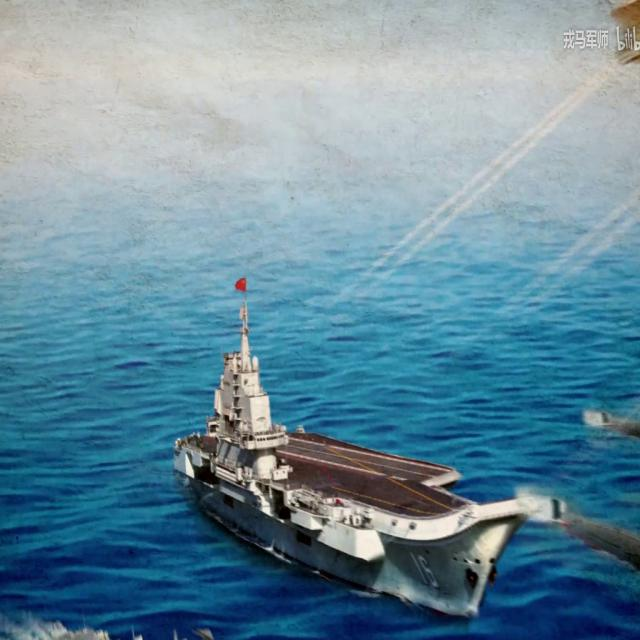navalvessels: (170, 281, 517, 619)
